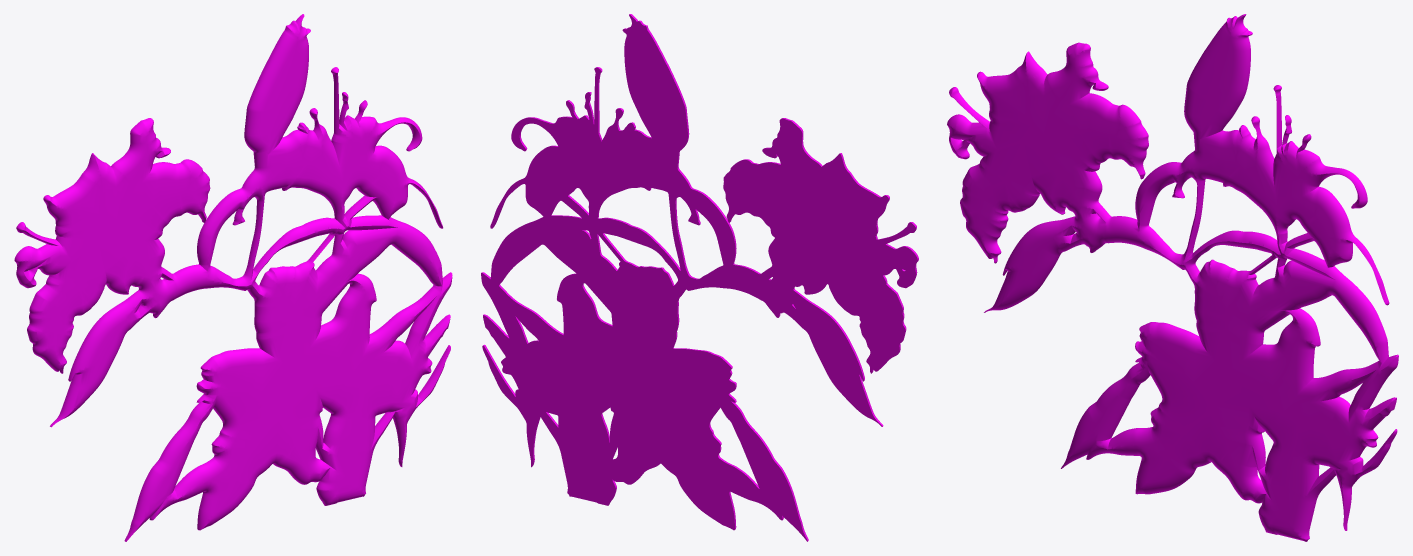
File: plant2@.gltf
3 views of the same model, side by side, from view 1: azimuth 30°, elevation 25°; view 2: azimuth 150°, elevation 25°; view 3: azimuth 330°, elevation 25° (orthographic). The views are drawn at different scales.
Bounding box in the file's own units: 3.62 × 3.94 × 0.0698.
